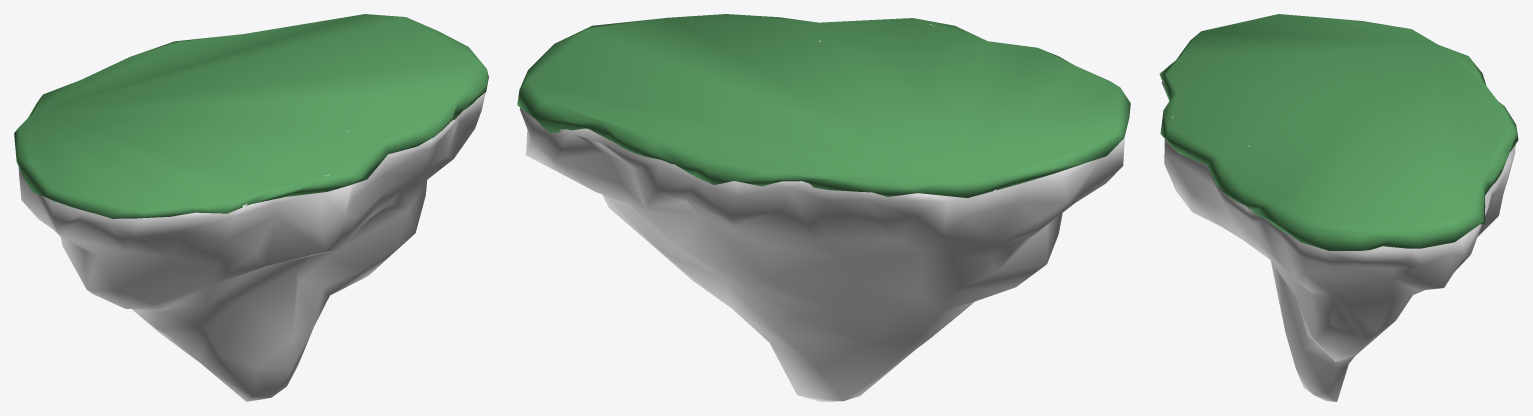
Rendered from IslandsLong1FlatLOD.fbx.
3 views of the same model, side by side, from view 1: azimuth 30°, elevation 25°; view 2: azimuth 150°, elevation 25°; view 3: azimuth 270°, elevation 25° (orthographic). The views are drawn at different scales.
Parts seen in each view (by area): view 1: IslandLong1TopFlatLOD, IslandLong1BottomFlatLOD; view 2: IslandLong1TopFlatLOD, IslandLong1BottomFlatLOD; view 3: IslandLong1TopFlatLOD, IslandLong1BottomFlatLOD.
Part boxes in pixels (box(x1,y1,x2,y2)): IslandLong1TopFlatLOD: box(14, 14, 488, 218); IslandLong1BottomFlatLOD: box(18, 92, 485, 401); IslandLong1TopFlatLOD: box(517, 14, 1130, 197); IslandLong1BottomFlatLOD: box(520, 24, 1124, 401); IslandLong1TopFlatLOD: box(1159, 14, 1518, 250); IslandLong1BottomFlatLOD: box(1161, 80, 1515, 401).
Bounding box in the file's own units: 3350 × 1947 × 2295.
